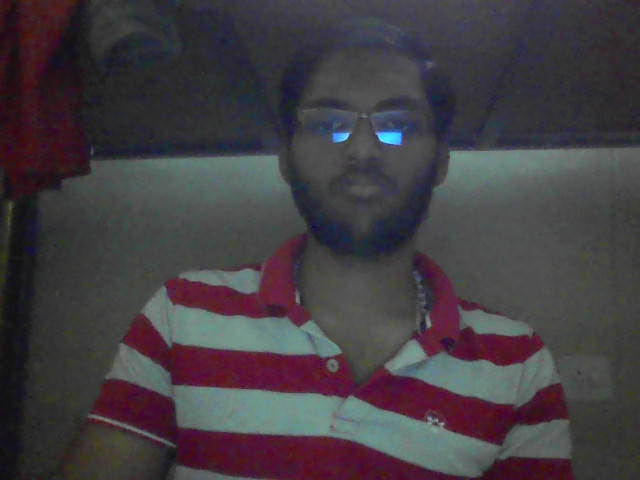Neutral: (232, 2, 553, 372)
